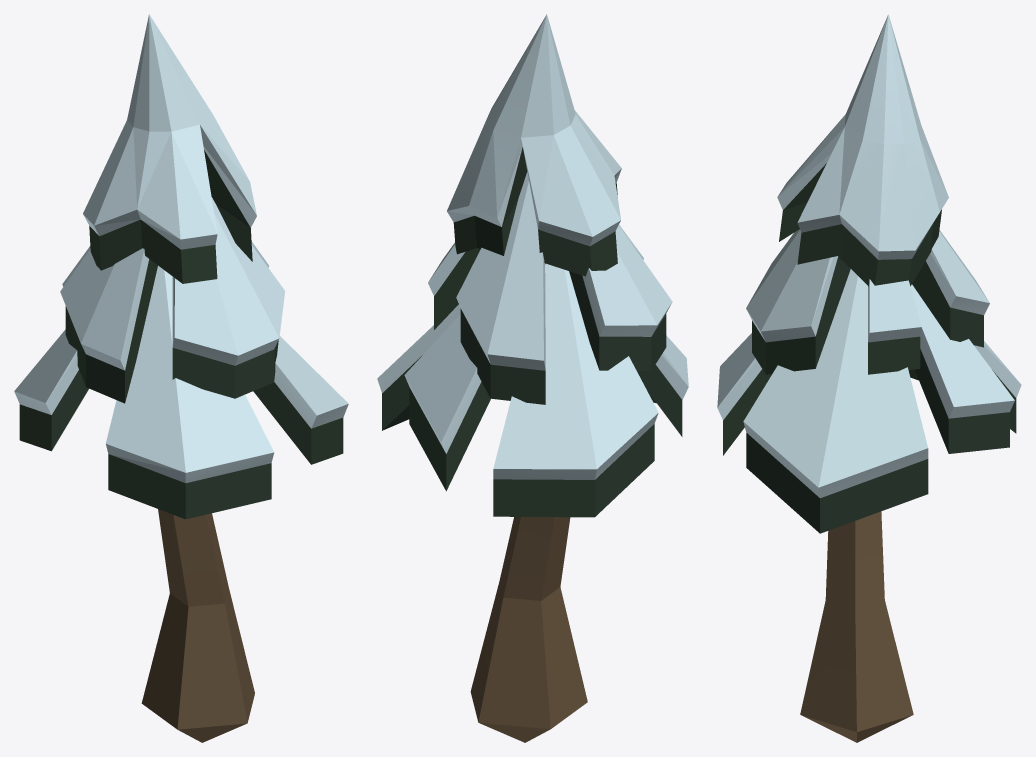
The model's file is Pino03.glb.
The picture shows the model from 3 angles, left to right: view 1: azimuth 30°, elevation 25°; view 2: azimuth 150°, elevation 25°; view 3: azimuth 270°, elevation 25°; orthographic projection. The views are drawn at different scales.
Parts seen in each view (by area): view 1: SM_Env_Tree_Pine_03_Snow; view 2: SM_Env_Tree_Pine_03_Snow; view 3: SM_Env_Tree_Pine_03_Snow.
Boxes of the visible parts, x1,y1,x2,y2 form: SM_Env_Tree_Pine_03_Snow: [14, 14, 348, 742]; SM_Env_Tree_Pine_03_Snow: [377, 14, 688, 742]; SM_Env_Tree_Pine_03_Snow: [717, 14, 1021, 742].
Bounding box in the file's own units: 1.24 × 3.18 × 1.23.
1 material, 1 textured.
